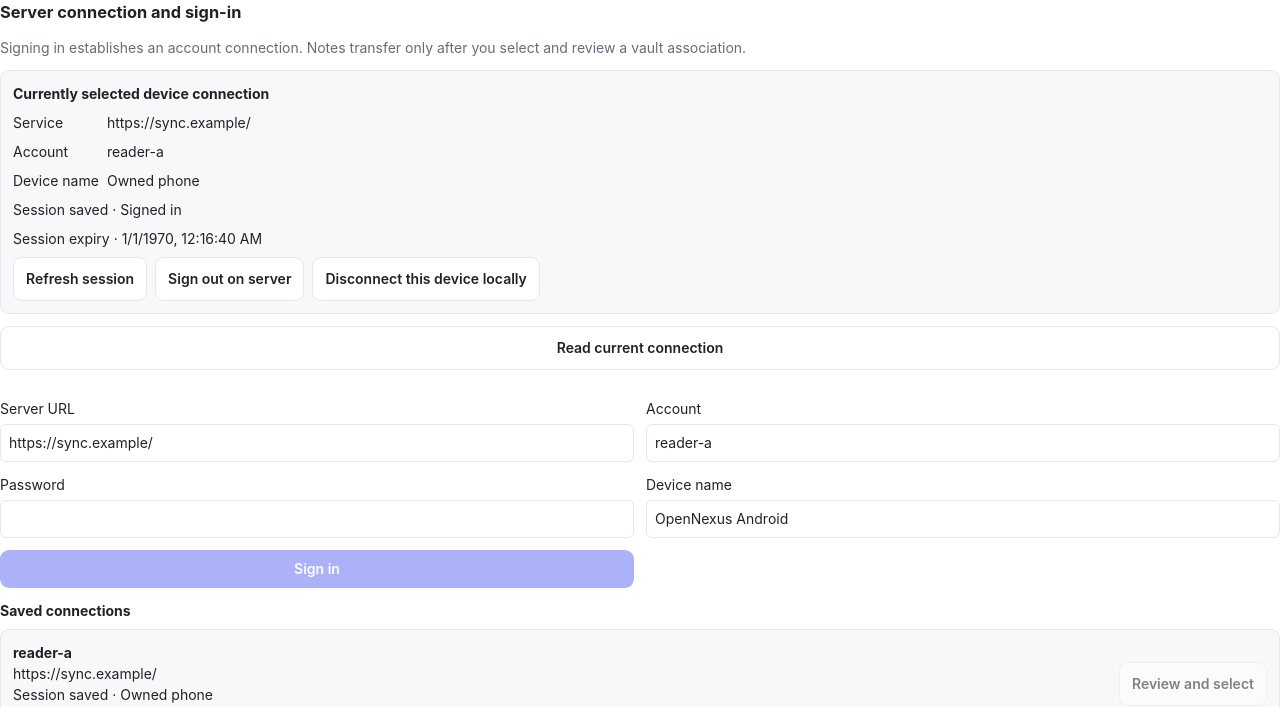
queries a lost login by its exact original ID and displays a known rejection without resending
Type "private-original-password" into the password field labelled "Password" at (317, 519), box [0,500,634,538]
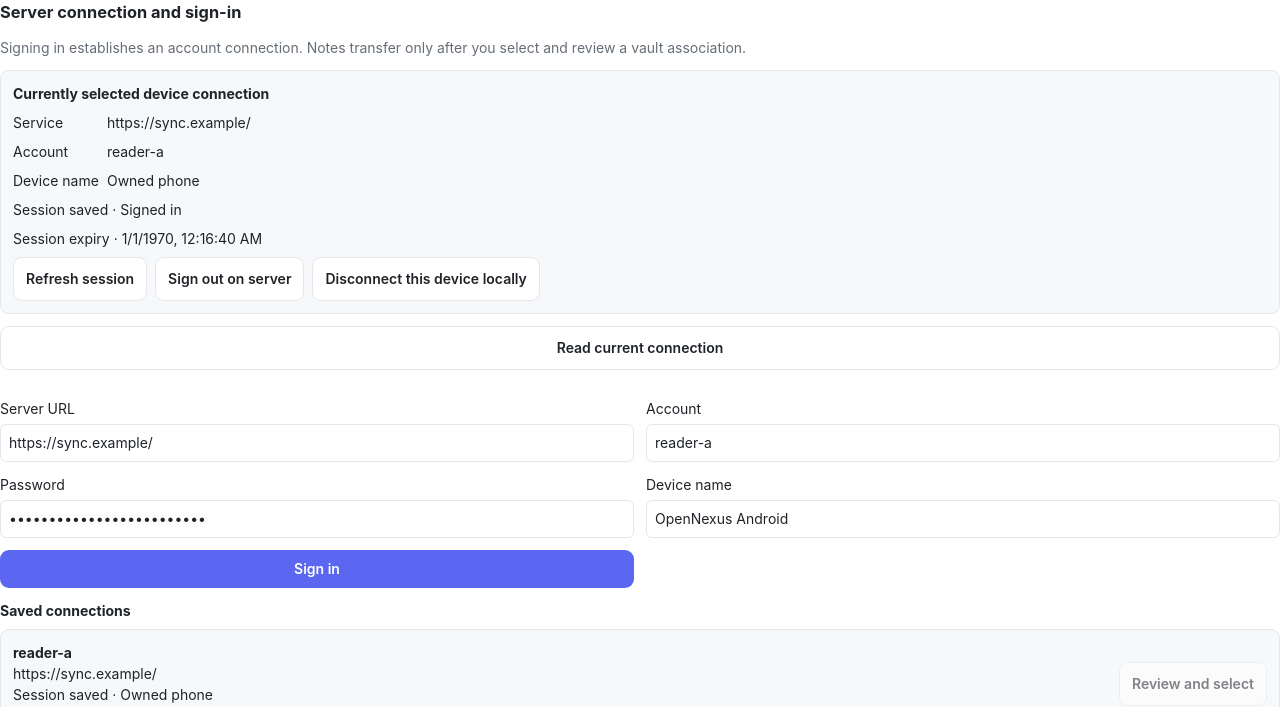
Submit the form, box [0,398,1279,588]
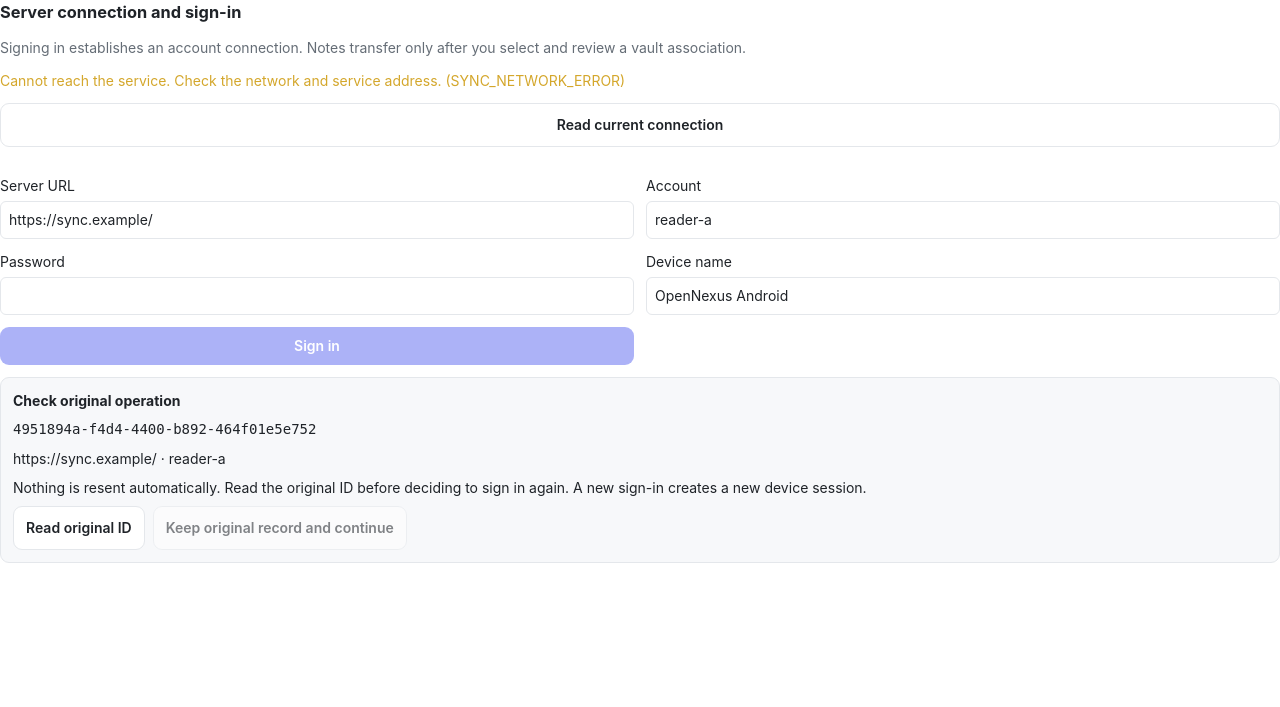
Check: the button "Read original ID" is shown
Click the button "Read original ID" at (79, 528), box [13,506,145,550]
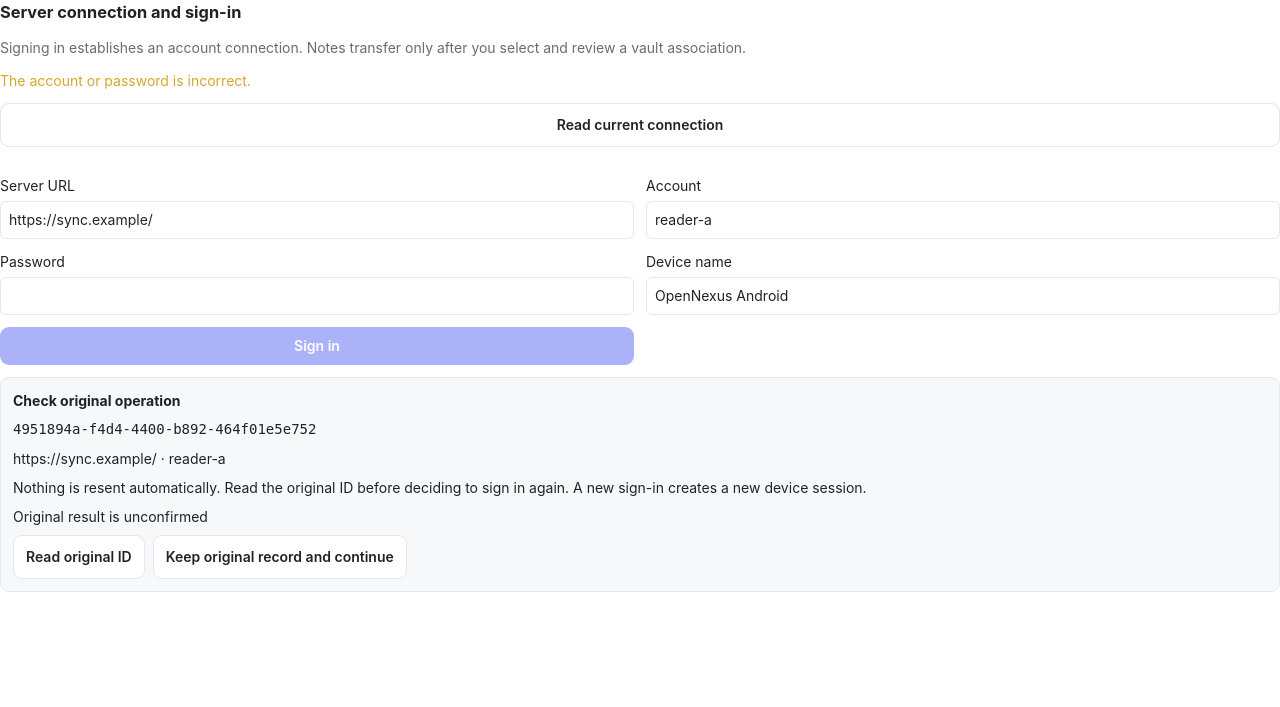
Check: the password field labelled "Password" is disabled, box [0,277,634,315]
Check: the text "The account or password is incorrect." is shown, box [0,72,251,89]
